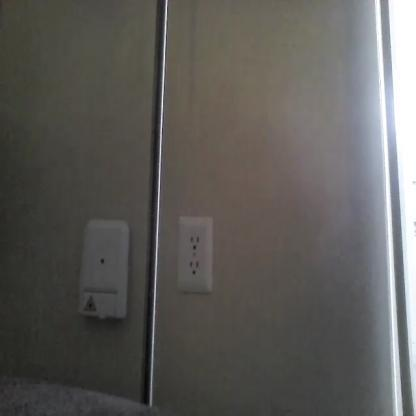OUTLET: (176, 215, 214, 294)
